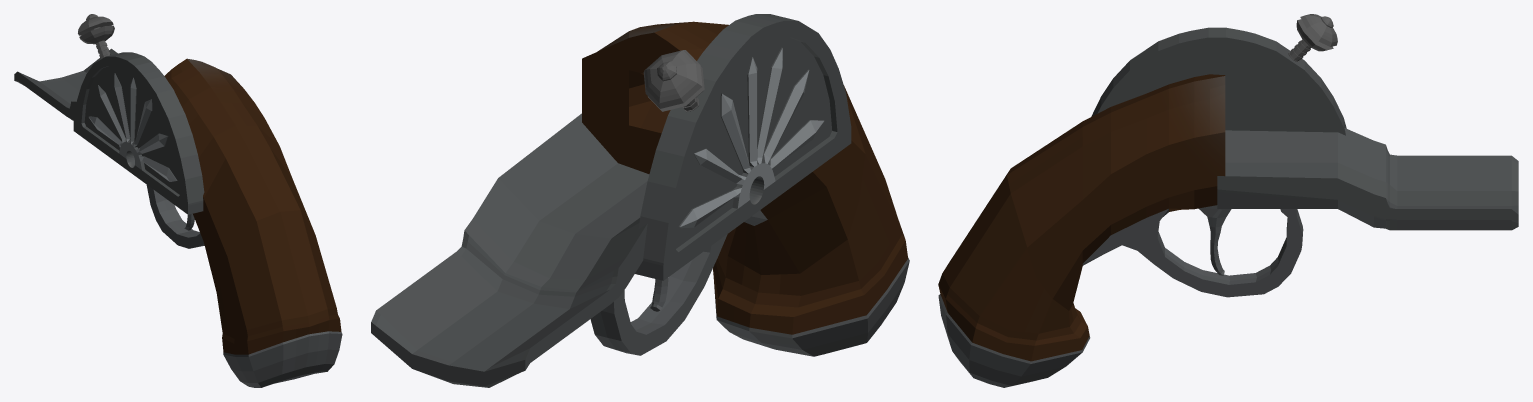
The model's file is FlareGunModel.fbx.
The picture shows the model from 3 angles, left to right: view 1: azimuth 30°, elevation 25°; view 2: azimuth 150°, elevation 25°; view 3: azimuth 270°, elevation 25°; orthographic projection. The views are drawn at different scales.
Visible parts, largest first — view 1: flareGunFullModel, flareGunTrigger; view 2: flareGunFullModel, flareGunTrigger; view 3: flareGunFullModel, flareGunTrigger.
Part boxes in pixels (left/top/right/bottom): flareGunFullModel: left=14, top=48, right=342, bottom=387; flareGunTrigger: left=78, top=14, right=114, bottom=58; flareGunFullModel: left=371, top=14, right=909, bottom=387; flareGunTrigger: left=643, top=50, right=704, bottom=111; flareGunFullModel: left=938, top=27, right=1518, bottom=387; flareGunTrigger: left=1288, top=14, right=1337, bottom=61.
Size of the model in its own units: 162 by 370 by 598.
Materials: 4 (3 with a texture image).
